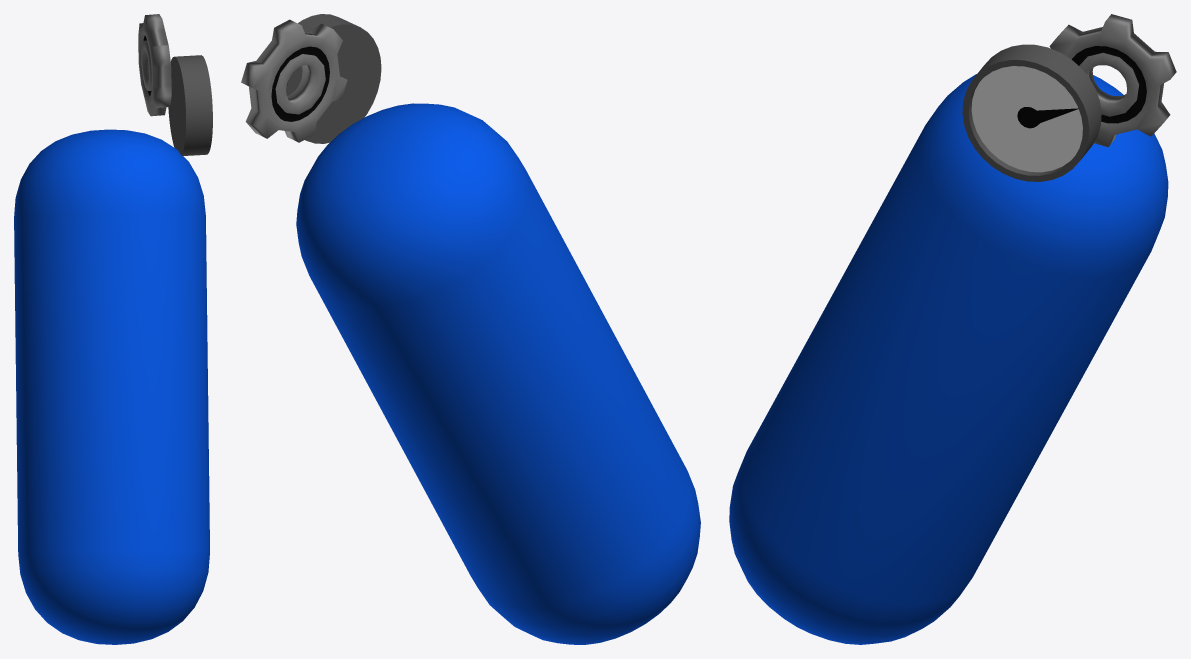
The model's file is boost - Copy.fbx.
3 views of the same model, side by side, from view 1: azimuth 30°, elevation 25°; view 2: azimuth 150°, elevation 25°; view 3: azimuth 270°, elevation 25° (orthographic). The views are drawn at different scales.
Parts seen in each view (by area): view 1: Sphere, Cylinder, Cylinder.001; view 2: Sphere, Cylinder.001, Cylinder; view 3: Sphere, Cylinder, Cylinder.001.
Part boxes in pixels (x1,y1,x2,y2): Sphere: [14, 129, 209, 644]; Cylinder: [168, 55, 212, 155]; Cylinder.001: [138, 14, 171, 116]; Sphere: [296, 103, 700, 644]; Cylinder.001: [241, 19, 347, 142]; Cylinder: [286, 14, 381, 143]; Sphere: [729, 74, 1168, 644]; Cylinder: [962, 44, 1101, 181]; Cylinder.001: [1049, 14, 1176, 147].
Size of the model in its own units: 113 by 225 by 130.
